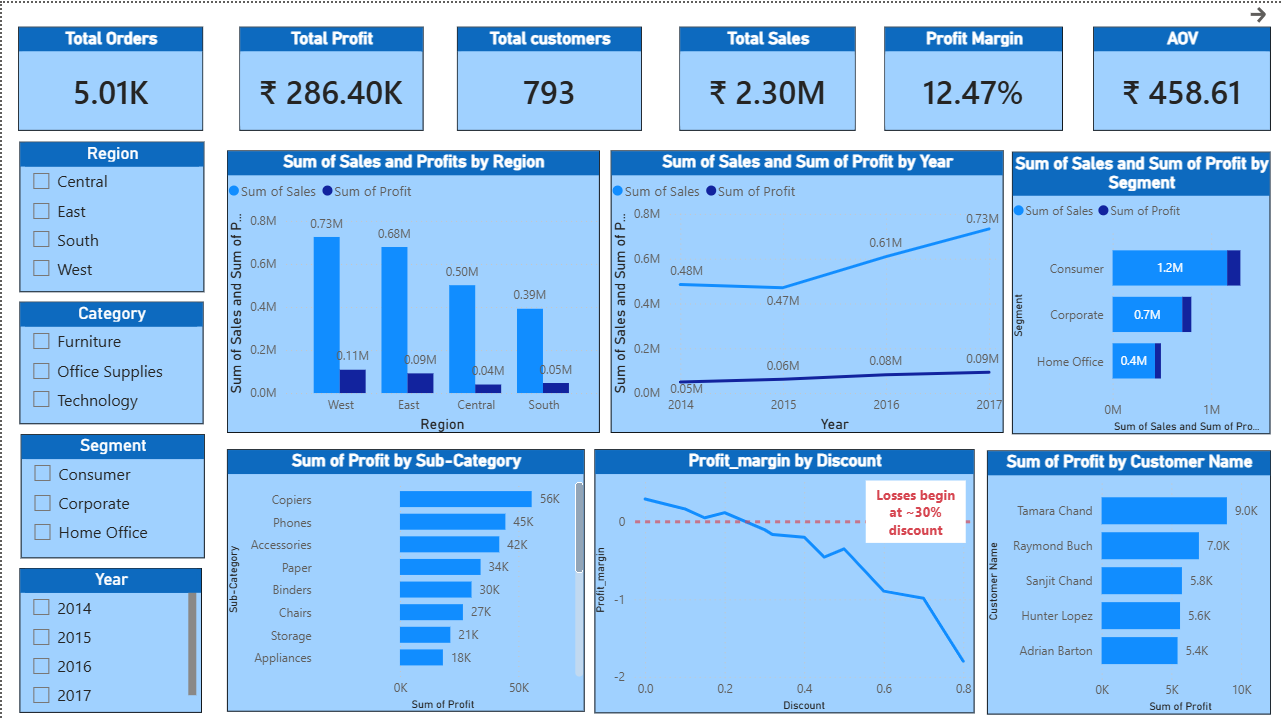

What the dashboard file says about the page in this screenshot:
{"tool":"powerbi","page":{"name":"Page 1","canvas":[1280,720],"ordinal":0},"visuals":[{"type":"cardVisual","title":"Total Orders","fields":{"Data":["Superstore_cleaned_2.Total orders"]},"box":[16.2,23.8,185,103.8],"z":0},{"type":"cardVisual","title":"Total Profit","fields":{"Data":["Superstore_cleaned_2.Total profit"]},"box":[237.5,23.8,183.8,103.8],"z":1000},{"type":"cardVisual","title":"Total Sales","fields":{"Data":["Superstore_cleaned_2.Total_sales"]},"box":[677.5,23.8,176.2,103.8],"z":2000},{"type":"cardVisual","title":"Profit Margin","fields":{"Data":["Superstore_cleaned_2.Profit_margin"]},"box":[882.5,23.8,178.8,103.8],"z":3000},{"type":"cardVisual","title":"AOV","fields":{"Data":["Superstore_cleaned_2.AOV"]},"box":[1091.2,23.8,177.5,103.8],"z":4000},{"type":"cardVisual","title":"Total customers","fields":{"Data":["Superstore_cleaned_2.Total customers"]},"box":[455,23.8,185,103.8],"z":5000},{"type":"slicer","title":"Region","fields":{"Values":["Superstore_cleaned_2.Region"]},"box":[17.5,138.8,185,150],"z":6000},{"type":"slicer","title":"Segment","fields":{"Values":["Superstore_cleaned_2.Segment"]},"box":[18.8,431.2,183.8,123.8],"z":7000},{"type":"slicer","title":"Category","fields":{"Values":["Superstore_cleaned_2.Category"]},"box":[17.5,298.8,183.8,122.5],"z":8000},{"type":"clusteredColumnChart","title":"Sum of Sales and Profits by Region","fields":{"Category":["Superstore_cleaned_2.Region"],"Y":["Sum(Superstore_cleaned_2.Sales)","Sum(Superstore_cleaned_2.Profit)"]},"box":[225,147.5,372.5,282.5],"z":9000},{"type":"barChart","fields":{"Y":["Sum(Superstore_cleaned_2.Profit)"],"Category":["Superstore_cleaned_2.Sub-Category"]},"box":[225,446.2,357.5,262.5],"z":10000},{"type":"lineChart","fields":{"Category":["Superstore_cleaned_2.Order Date.Variation.Date Hierarchy.Year","Superstore_cleaned_2.Order Date.Variation.Date Hierarchy.Quarter","Superstore_cleaned_2.Order Date.Variation.Date Hierarchy.Month","Superstore_cleaned_2.Order Date.Variation.Date Hierarchy.Day"],"Y":["Sum(Superstore_cleaned_2.Sales)","Sum(Superstore_cleaned_2.Profit)"]},"box":[608.8,147.5,392.5,282.5],"z":11000},{"type":"slicer","title":"Year","fields":{"Values":["Superstore_cleaned_2.Year"]},"box":[17.5,565,182.5,145],"z":12000},{"type":"barChart","fields":{"Category":["Superstore_cleaned_2.Segment"],"Y":["Sum(Superstore_cleaned_2.Sales)","Sum(Superstore_cleaned_2.Profit)"]},"box":[1010,148.8,258.8,282.5],"z":13000},{"type":"lineChart","fields":{"Category":["Superstore_cleaned_2.Discount"],"Y":["Superstore_cleaned_2.Profit_margin"]},"box":[592.5,446.2,380,263.8],"z":14000},{"type":"barChart","fields":{"Category":["Superstore_cleaned_2.Customer Name"],"Y":["Sum(Superstore_cleaned_2.Profit)"]},"box":[985,447.5,283.8,263.8],"z":15000},{"type":"textbox","box":[863.8,477.5,100,62.5],"z":16000},{"type":"actionButton","box":[1243.8,0,25,23.8],"z":17000}]}

Visuals, with their boxes in screenshot pixels (x1, y1, x2, y2), scaled from the page's 1280x720 canvas onto the 1282x720 screenshot:
"Total Orders" cardVisual: crop(16, 24, 202, 128)
"Total Profit" cardVisual: crop(238, 24, 422, 128)
"Total Sales" cardVisual: crop(679, 24, 855, 128)
"Profit Margin" cardVisual: crop(884, 24, 1063, 128)
"AOV" cardVisual: crop(1093, 24, 1271, 128)
"Total customers" cardVisual: crop(456, 24, 641, 128)
"Region" slicer: crop(18, 139, 203, 289)
"Segment" slicer: crop(19, 431, 203, 555)
"Category" slicer: crop(18, 299, 202, 421)
"Sum of Sales and Profits by Region" clusteredColumnChart: crop(225, 148, 598, 430)
barChart - Sum(Superstore_cleaned_2.Profit) x Superstore_cleaned_2.Sub-Category: crop(225, 446, 583, 709)
lineChart - Superstore_cleaned_2.Order Date.Variation.Date Hierarchy.Year x Superstore_cleaned_2.Order Date.Variation.Date Hierarchy.Quarter: crop(610, 148, 1003, 430)
"Year" slicer: crop(18, 565, 200, 710)
barChart - Superstore_cleaned_2.Segment x Sum(Superstore_cleaned_2.Sales): crop(1012, 149, 1271, 431)
lineChart - Superstore_cleaned_2.Discount x Superstore_cleaned_2.Profit_margin: crop(593, 446, 974, 710)
barChart - Superstore_cleaned_2.Customer Name x Sum(Superstore_cleaned_2.Profit): crop(987, 448, 1271, 711)
textbox: crop(865, 478, 965, 540)
actionButton: crop(1246, 0, 1271, 24)
